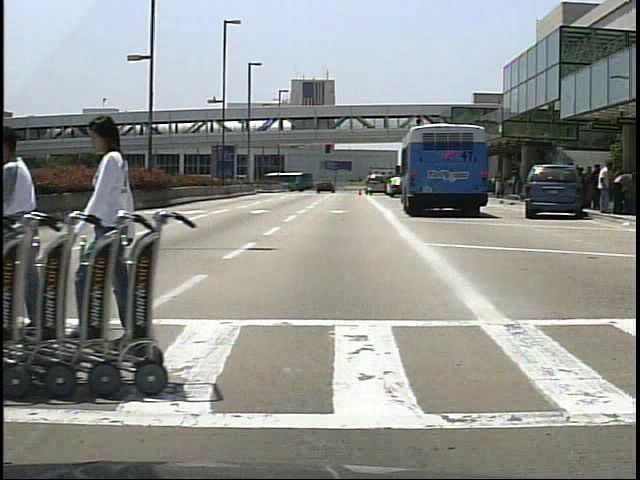person: (73, 105, 168, 352), (4, 121, 80, 340), (598, 160, 619, 213), (589, 163, 606, 214)
